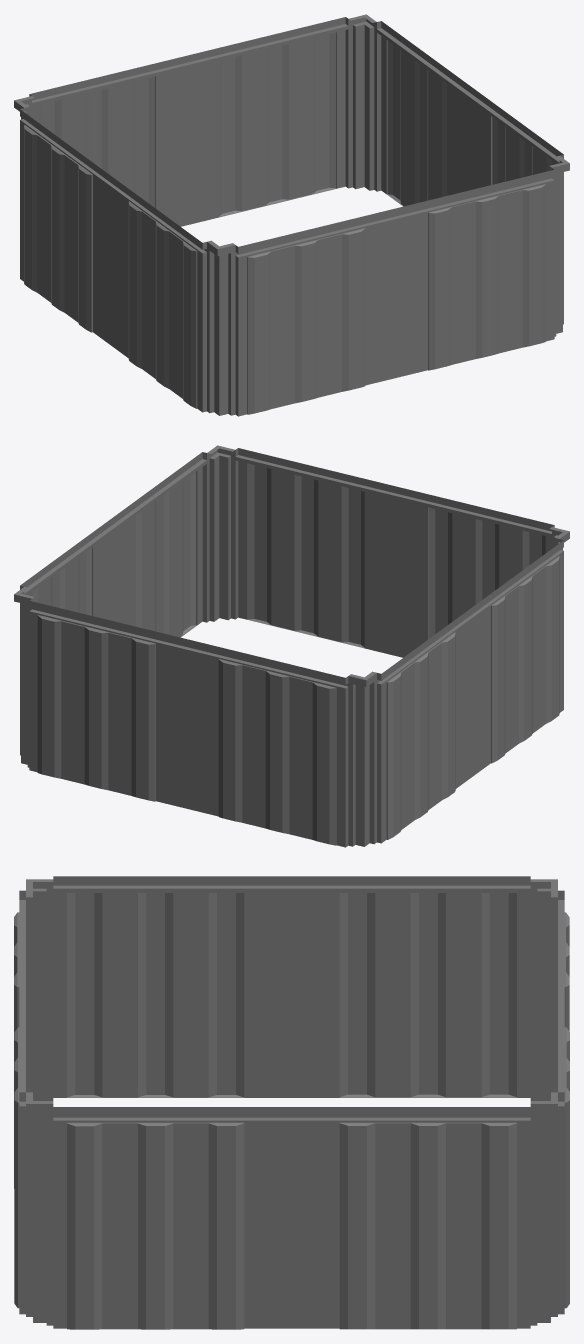
Rendered from tesla_modules_core_wall_outer_04.dae.
The picture shows the model from 3 angles, top to bottom: view 1: azimuth 30°, elevation 25°; view 2: azimuth 150°, elevation 25°; view 3: azimuth 270°, elevation 25°; orthographic projection. The views are drawn at different scales.
Parts seen in each view (by area): view 1: polySurface48; view 2: polySurface48; view 3: polySurface48.
Boxes of the visible parts, bbox=[...] form: polySurface48: bbox=[14, 14, 569, 416]; polySurface48: bbox=[14, 445, 569, 847]; polySurface48: bbox=[14, 876, 569, 1329].
Size of the model in its own units: 40772 by 17941 by 40772.
